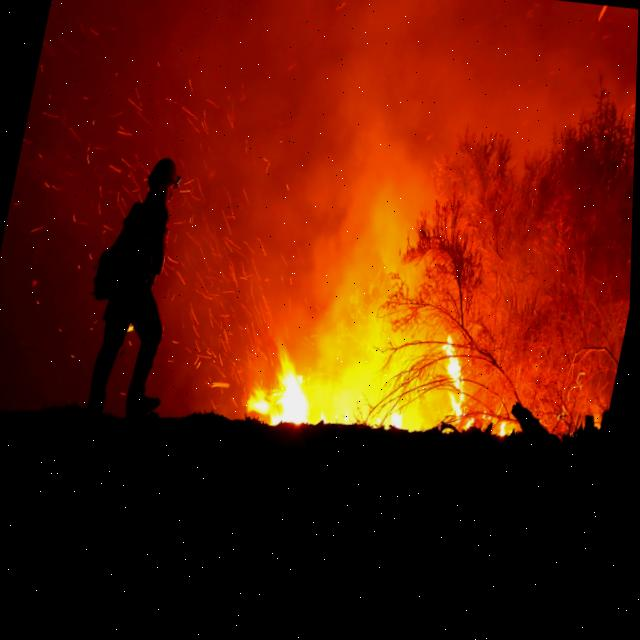fire: (246, 348, 318, 433), (437, 341, 470, 437)
smoke: (0, 0, 639, 440)
